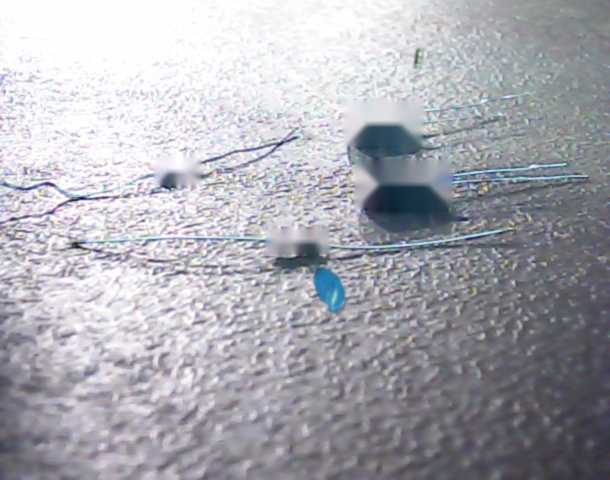capacitor: (313, 267, 345, 312)
resistor: (413, 48, 424, 69)
